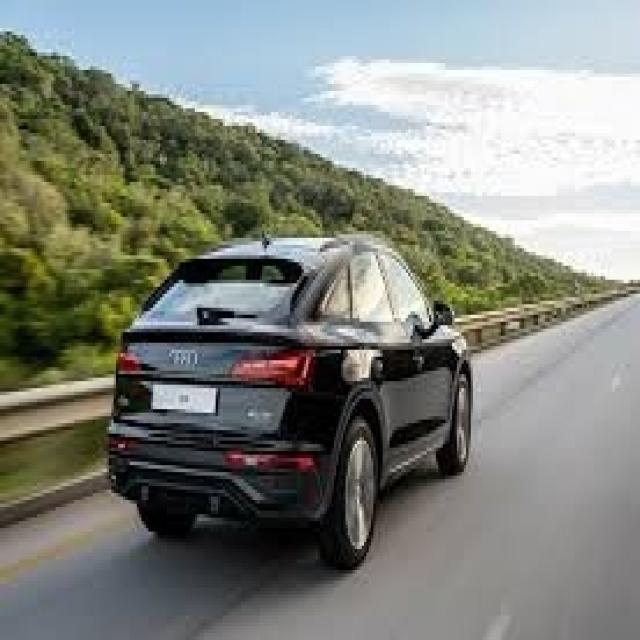black: (90, 217, 470, 556)
